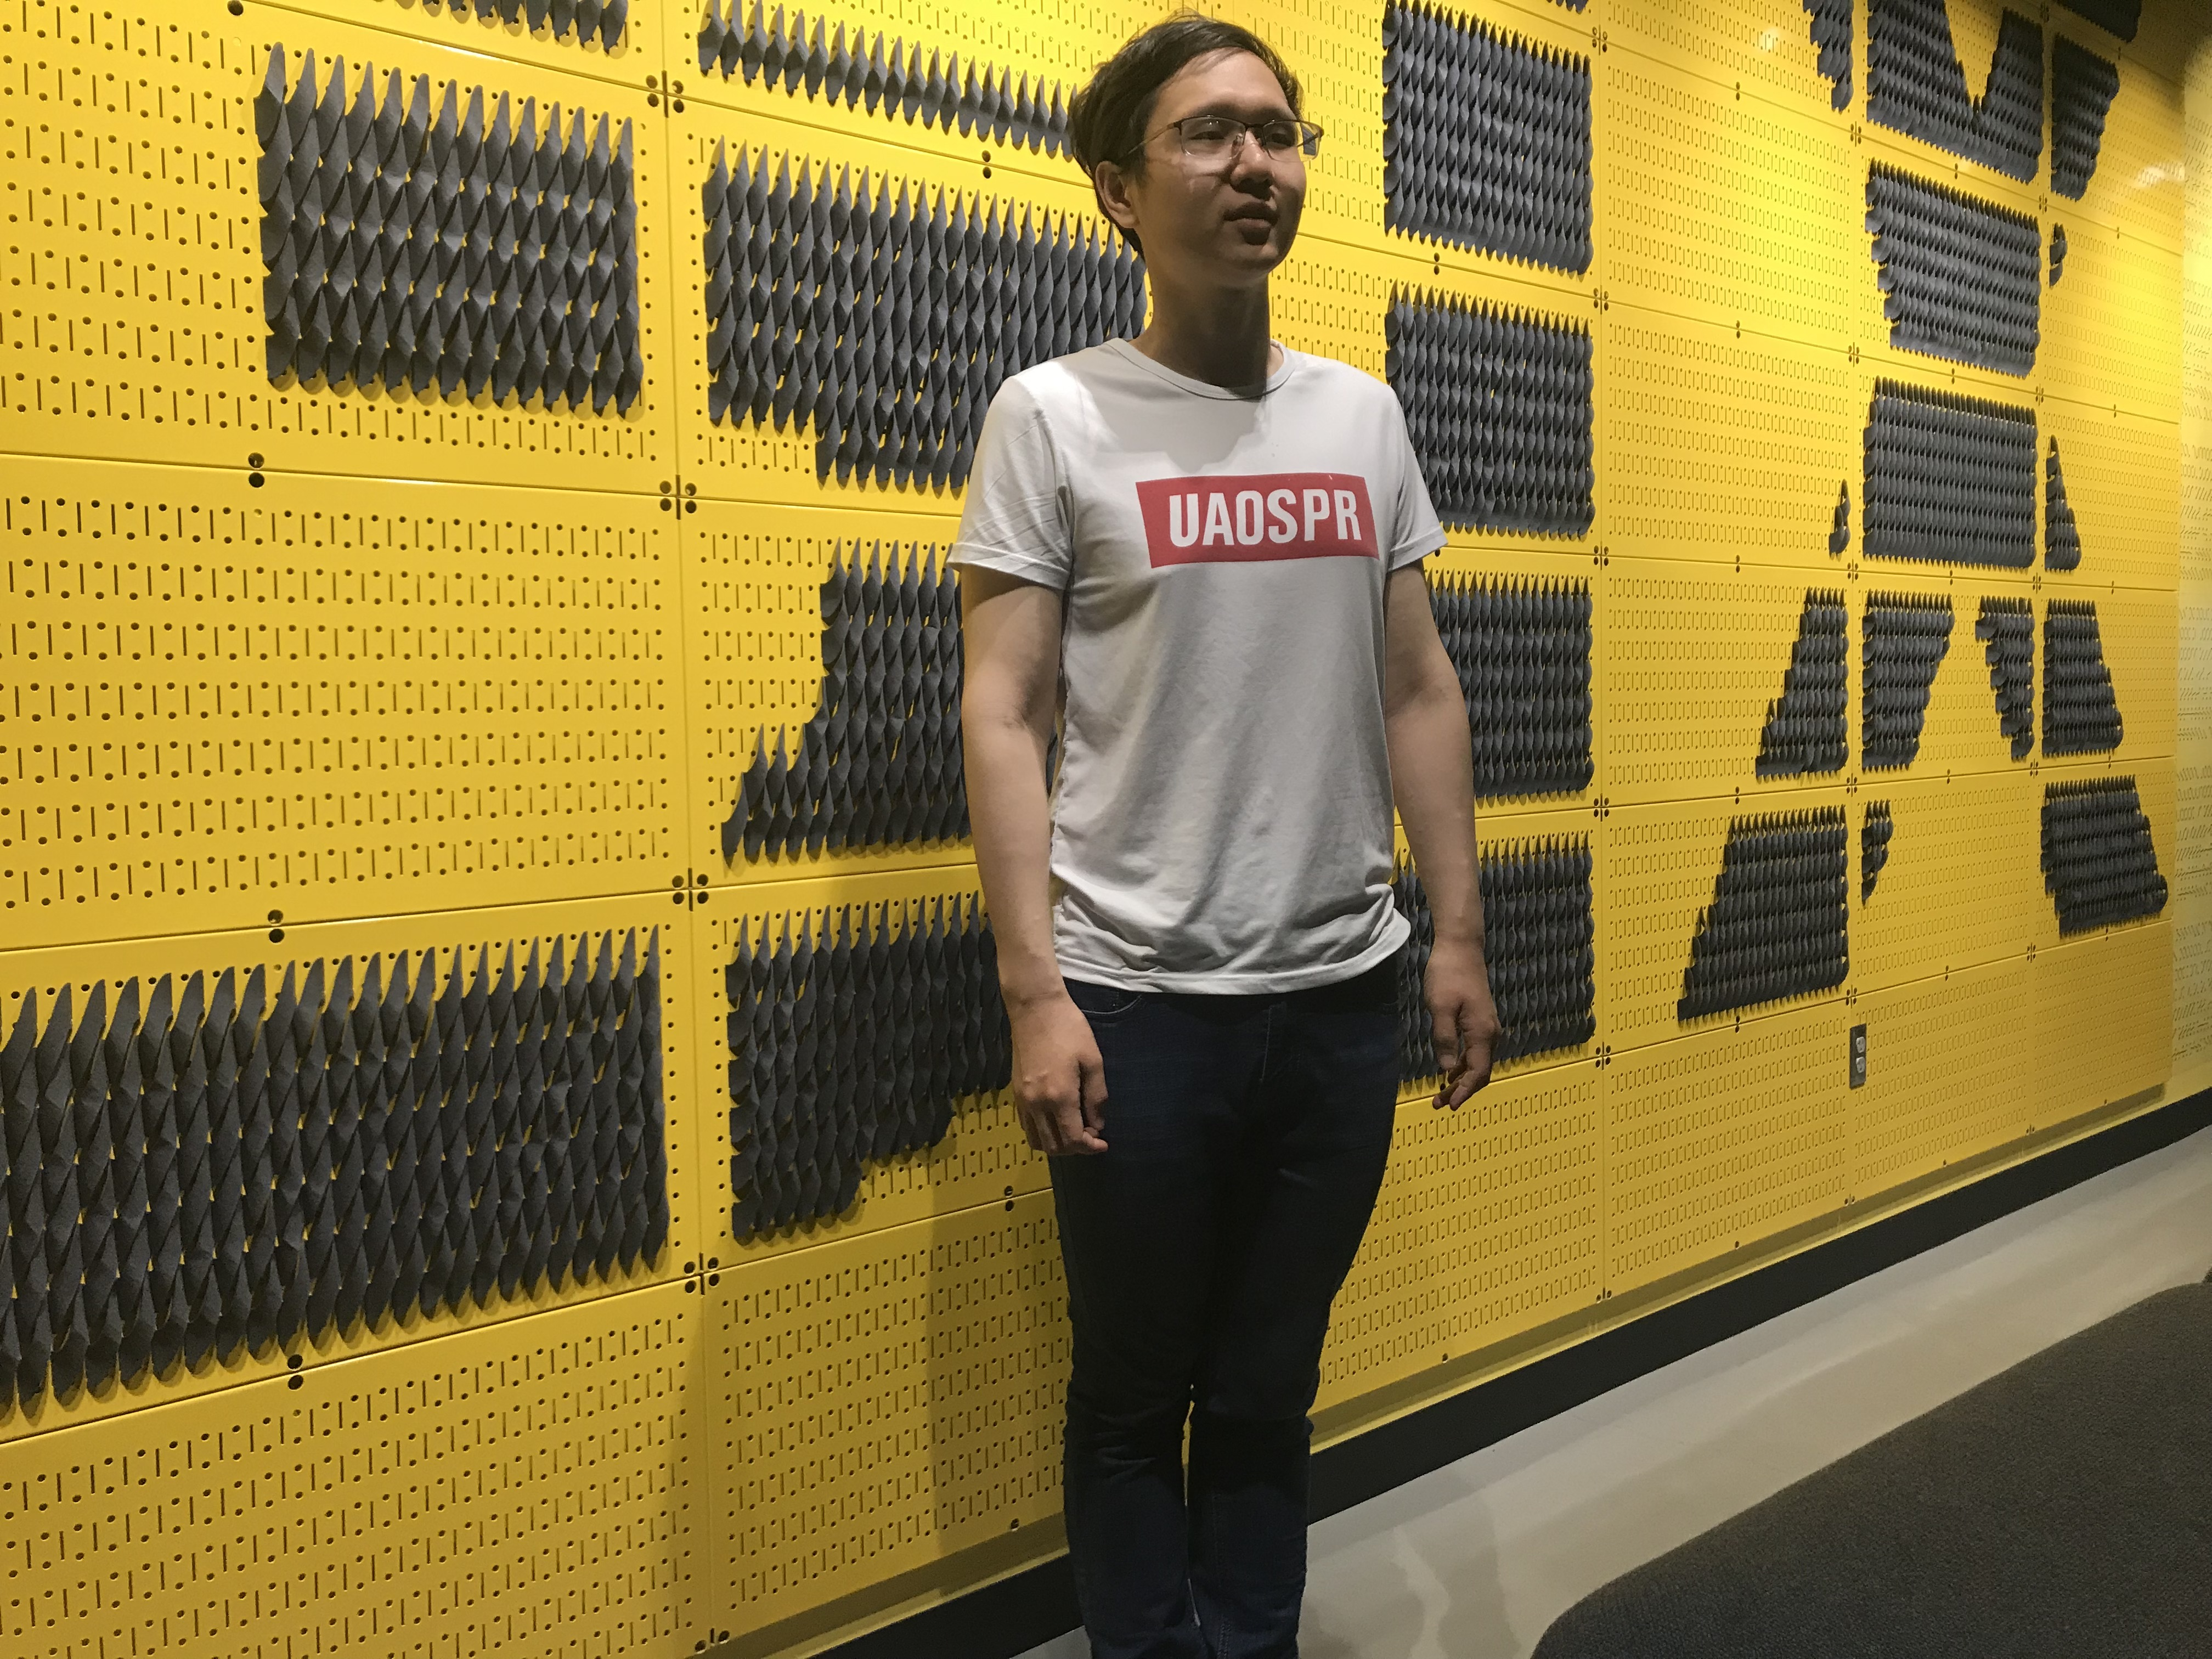attack_zone: (1096, 418, 1362, 864), (2057, 75, 2069, 91)
